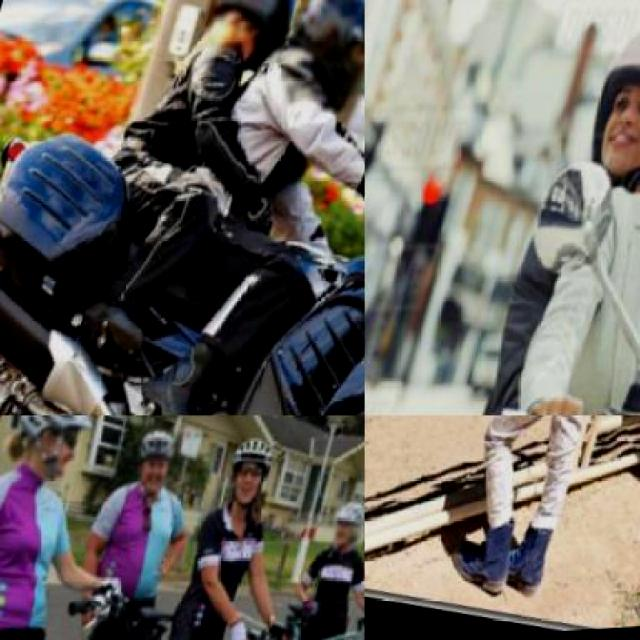With Helmet: (271, 0, 363, 131), (586, 23, 639, 191), (0, 416, 103, 502), (201, 0, 314, 74), (214, 425, 288, 524), (121, 426, 190, 509), (320, 497, 363, 561)
